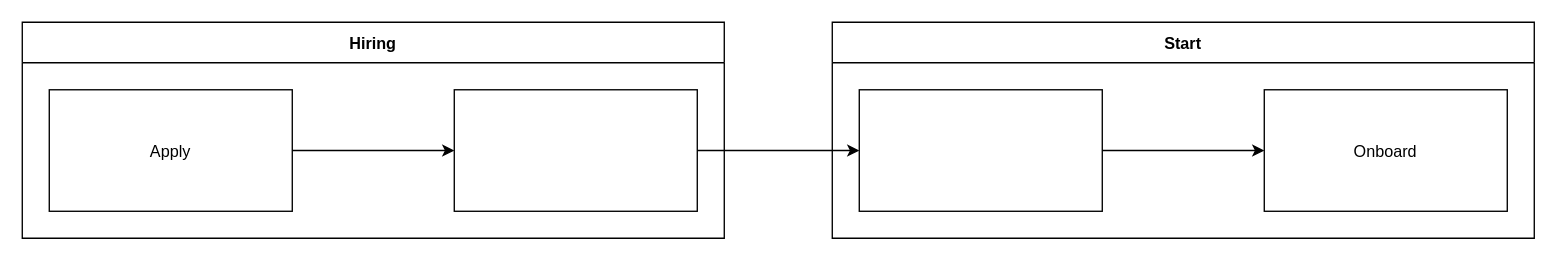
This 1557x261 diagram has some shape labels left out. The shapes that lost their labels are listed below. From the top down, each one's centre as x and y in pixels, then its label:
(575,149): Interview
(980,149): Contract
